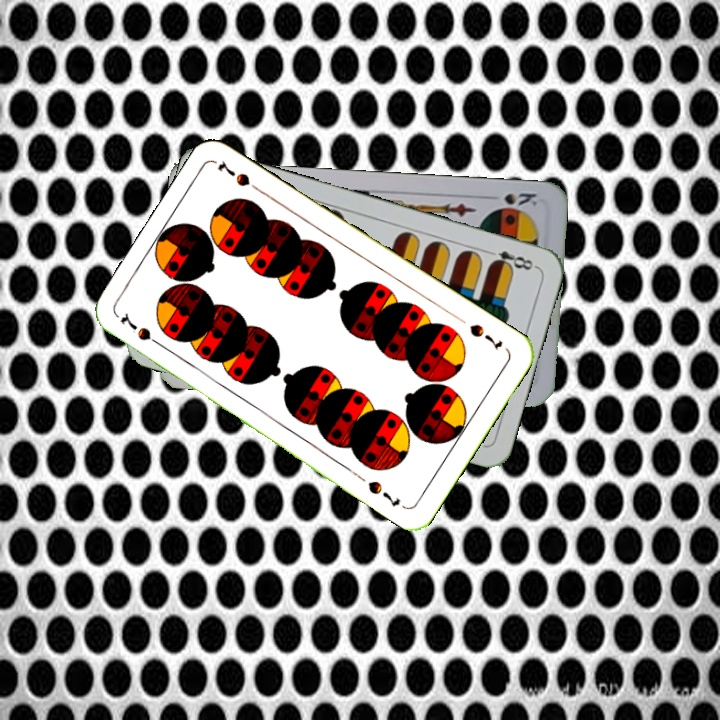E8: (481, 245, 539, 273)
S7: (116, 309, 167, 351), (465, 319, 505, 352)
SK: (483, 188, 540, 209)
